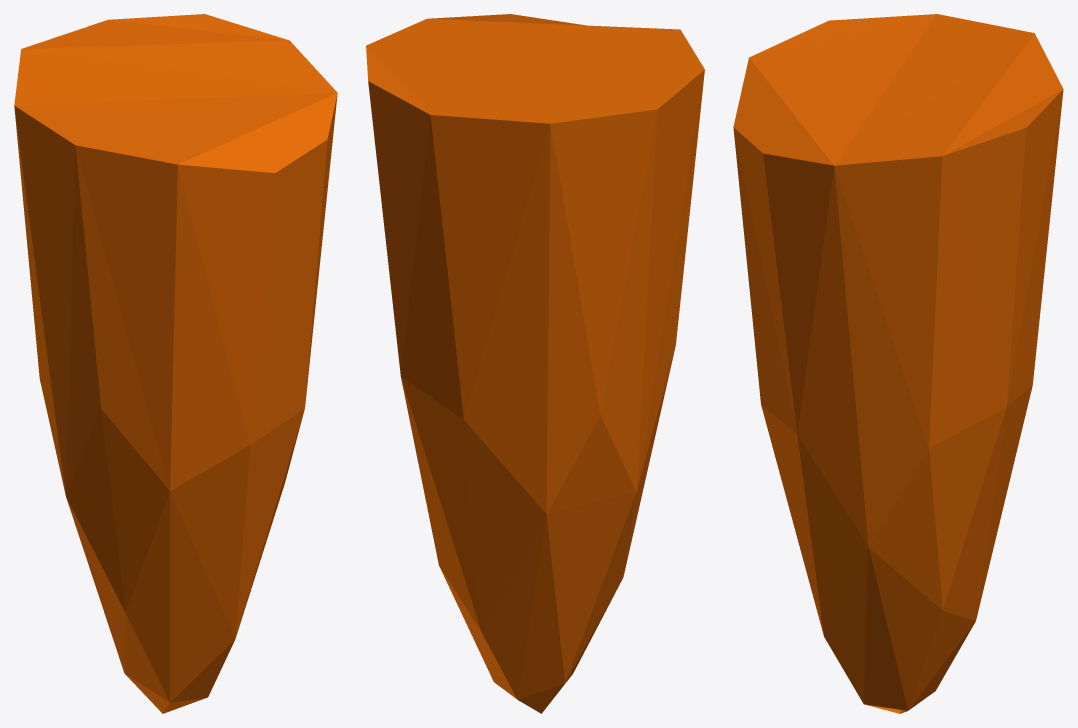
Rendered from Carrot_2.fbx.
3 renders of one model, left to right at view 1: azimuth 30°, elevation 25°; view 2: azimuth 150°, elevation 25°; view 3: azimuth 270°, elevation 25°, orthographic. The views are drawn at different scales.
Parts seen in each view (by area): view 1: Cylinder.001; view 2: Cylinder.001; view 3: Cylinder.001.
Boxes of the visible parts, x1,y1,x2,y2 form: Cylinder.001: [14, 14, 337, 713]; Cylinder.001: [366, 14, 704, 713]; Cylinder.001: [733, 14, 1063, 713].
Size of the model in its own units: 135 by 291 by 133.
